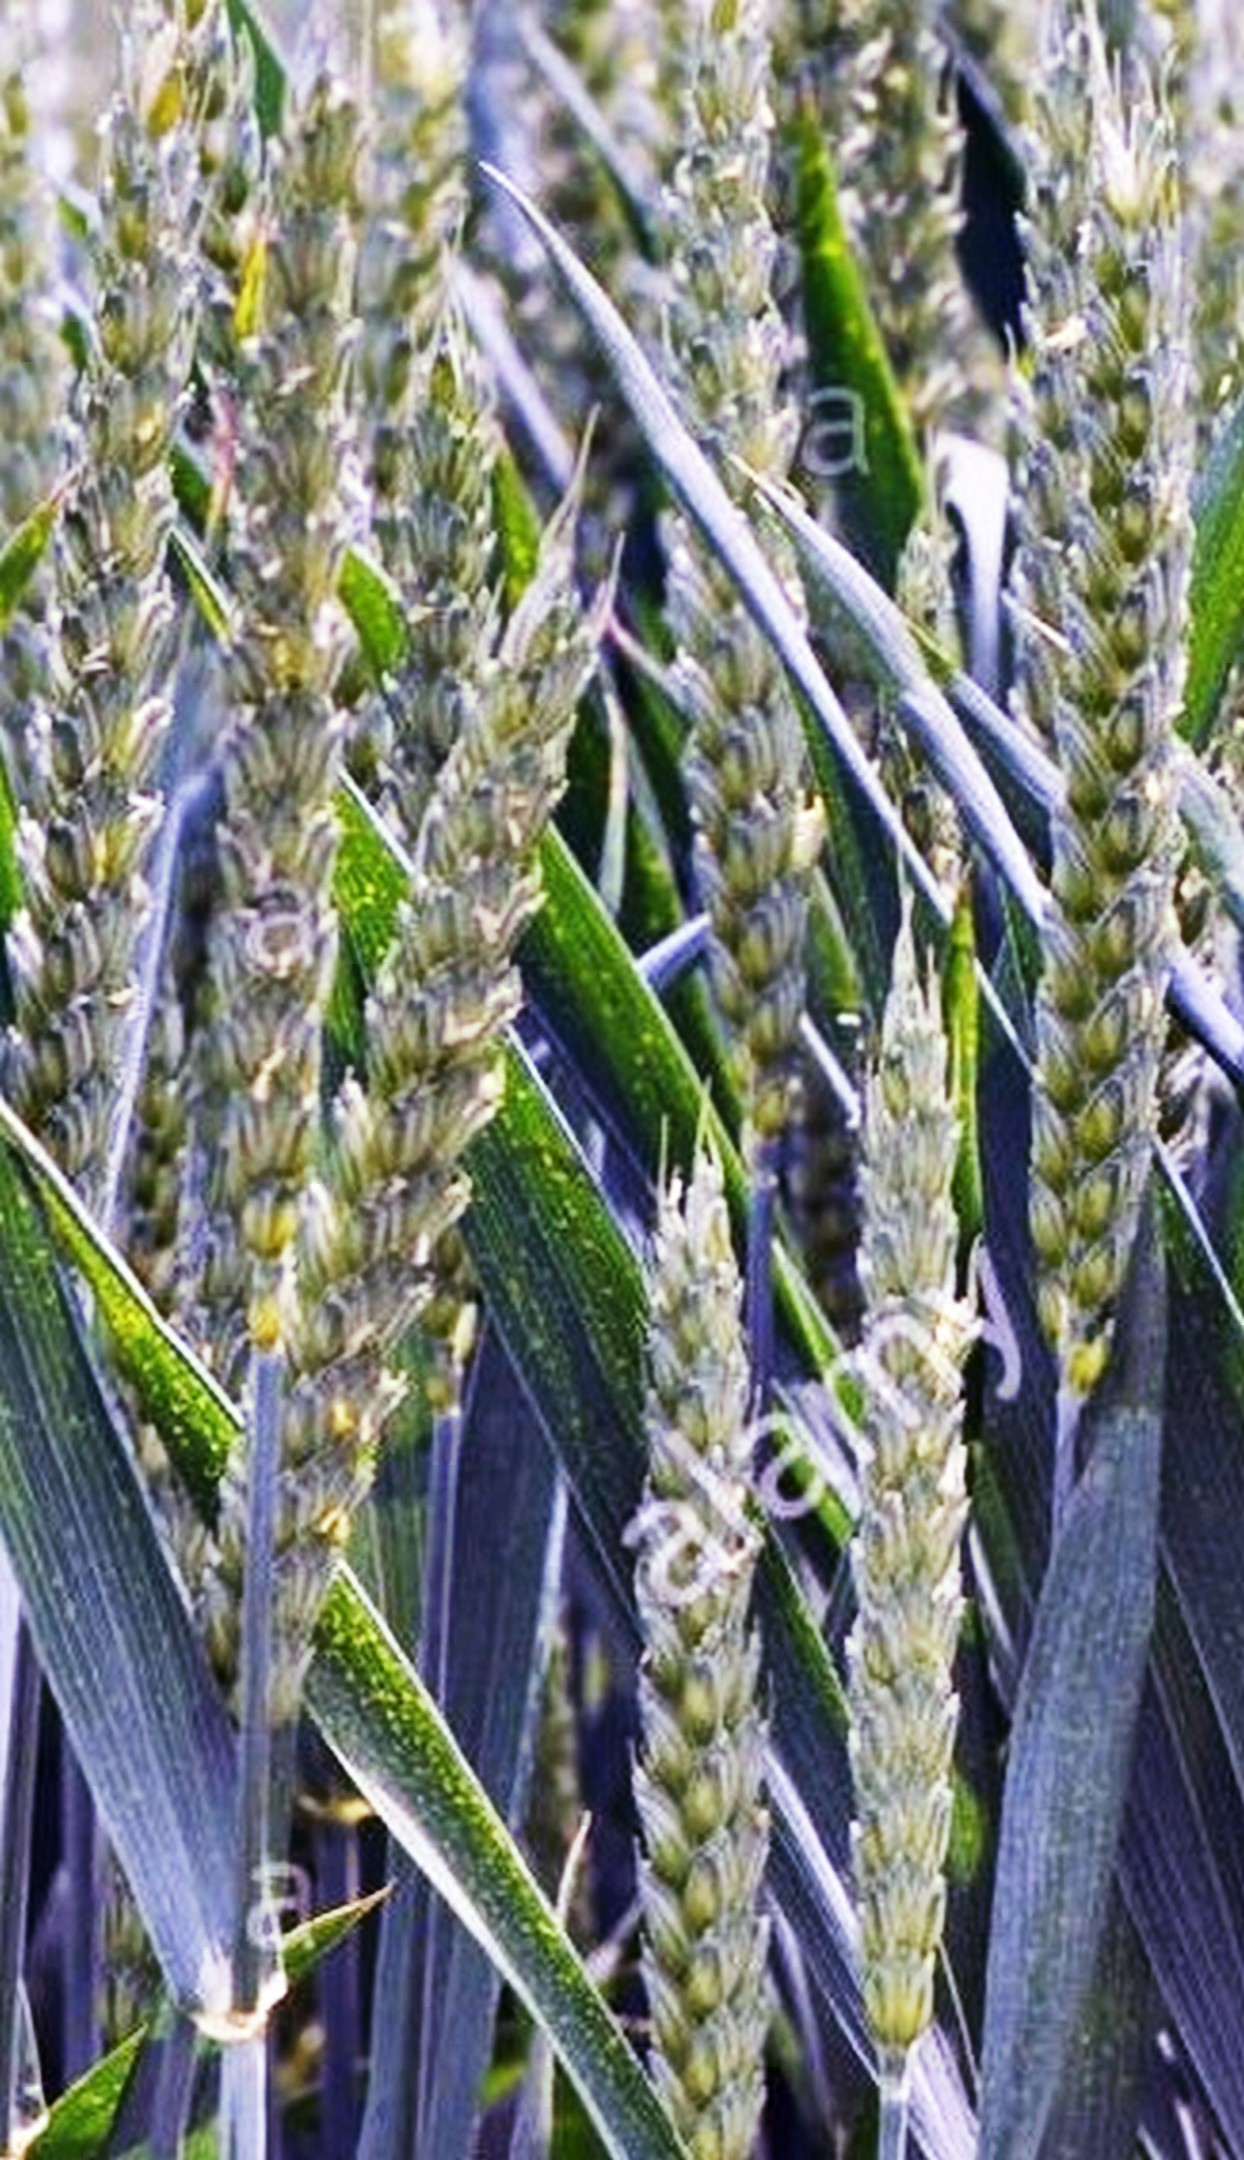Healthy Wheat: (574, 1184, 793, 2113)
